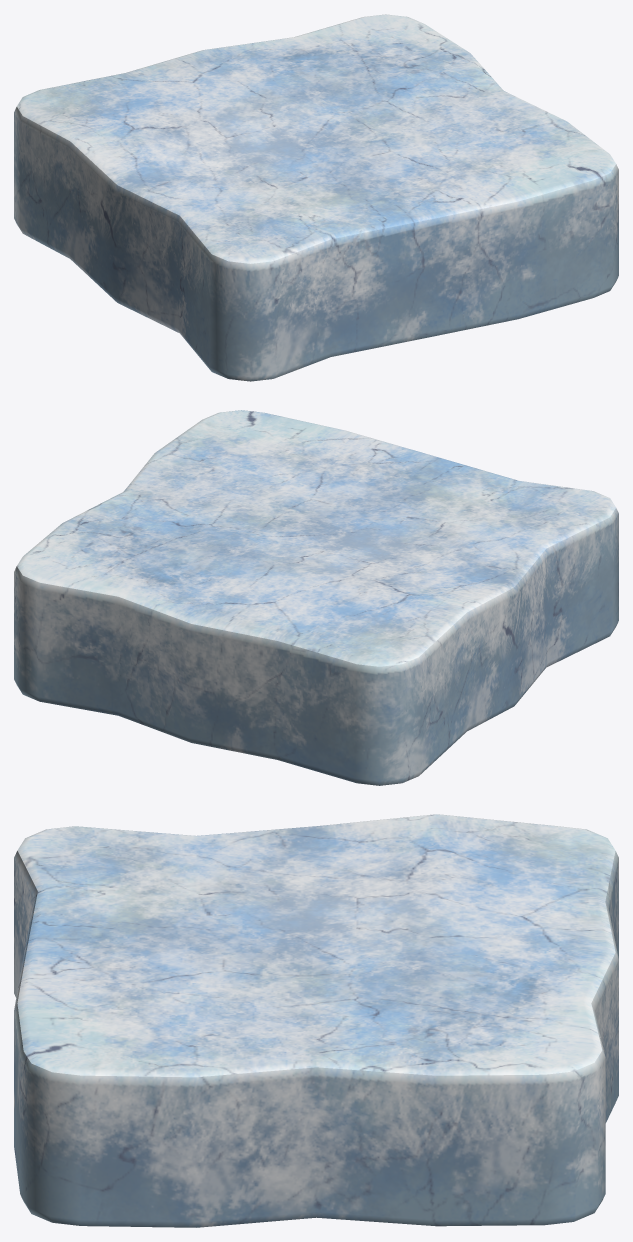
The model's file is 2_stage.fbx.
The picture shows the model from 3 angles, top to bottom: view 1: azimuth 30°, elevation 25°; view 2: azimuth 150°, elevation 25°; view 3: azimuth 270°, elevation 25°; orthographic projection. The views are drawn at different scales.
Parts seen in each view (by area): view 1: pCube322; view 2: pCube322; view 3: pCube322.
Part boxes in pixels (box(x1,y1,x2,y2)): pCube322: box(14, 14, 618, 381); pCube322: box(14, 410, 618, 785); pCube322: box(14, 814, 618, 1227).
Size of the model in its own units: 6.96 by 2.17 by 7.
1 material, 1 textured.
